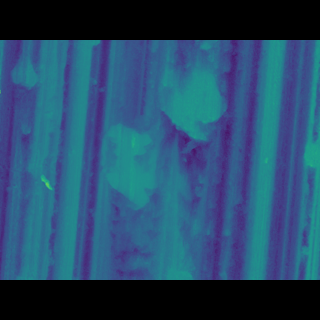Loch: (106, 125, 163, 249), (150, 87, 230, 149)
